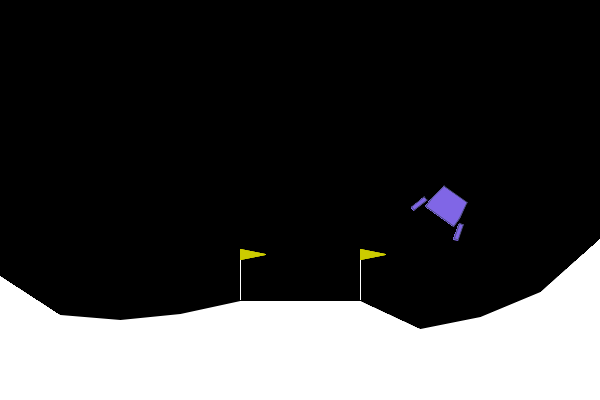lander: (409, 176, 481, 243)
